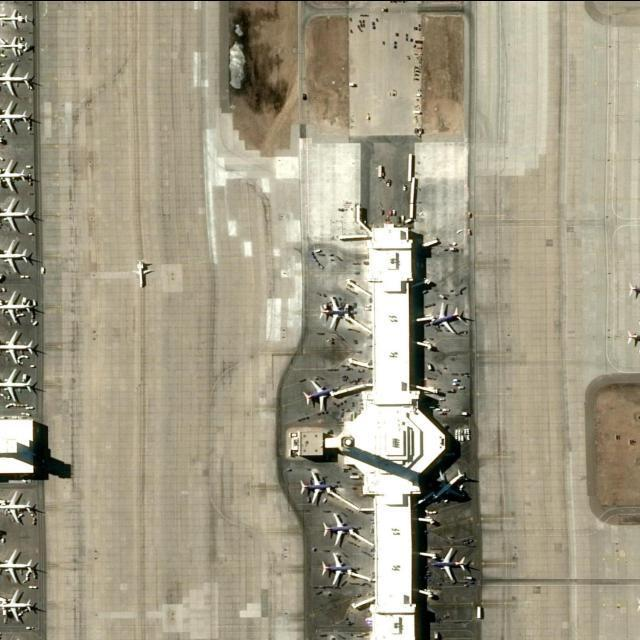Aircraft: (429, 468, 473, 506), (0, 366, 40, 406), (317, 295, 359, 331), (321, 512, 363, 548), (0, 327, 40, 364), (429, 300, 468, 337), (433, 547, 470, 584), (300, 471, 340, 505), (1, 491, 37, 525), (0, 290, 36, 324), (0, 238, 32, 276), (0, 588, 34, 623), (321, 554, 360, 584), (304, 379, 338, 413), (0, 550, 35, 583), (0, 200, 33, 232), (0, 100, 32, 132), (0, 64, 33, 94), (0, 158, 30, 190), (132, 258, 154, 288), (0, 10, 29, 28), (0, 37, 28, 55), (621, 327, 640, 349), (626, 276, 640, 303)
